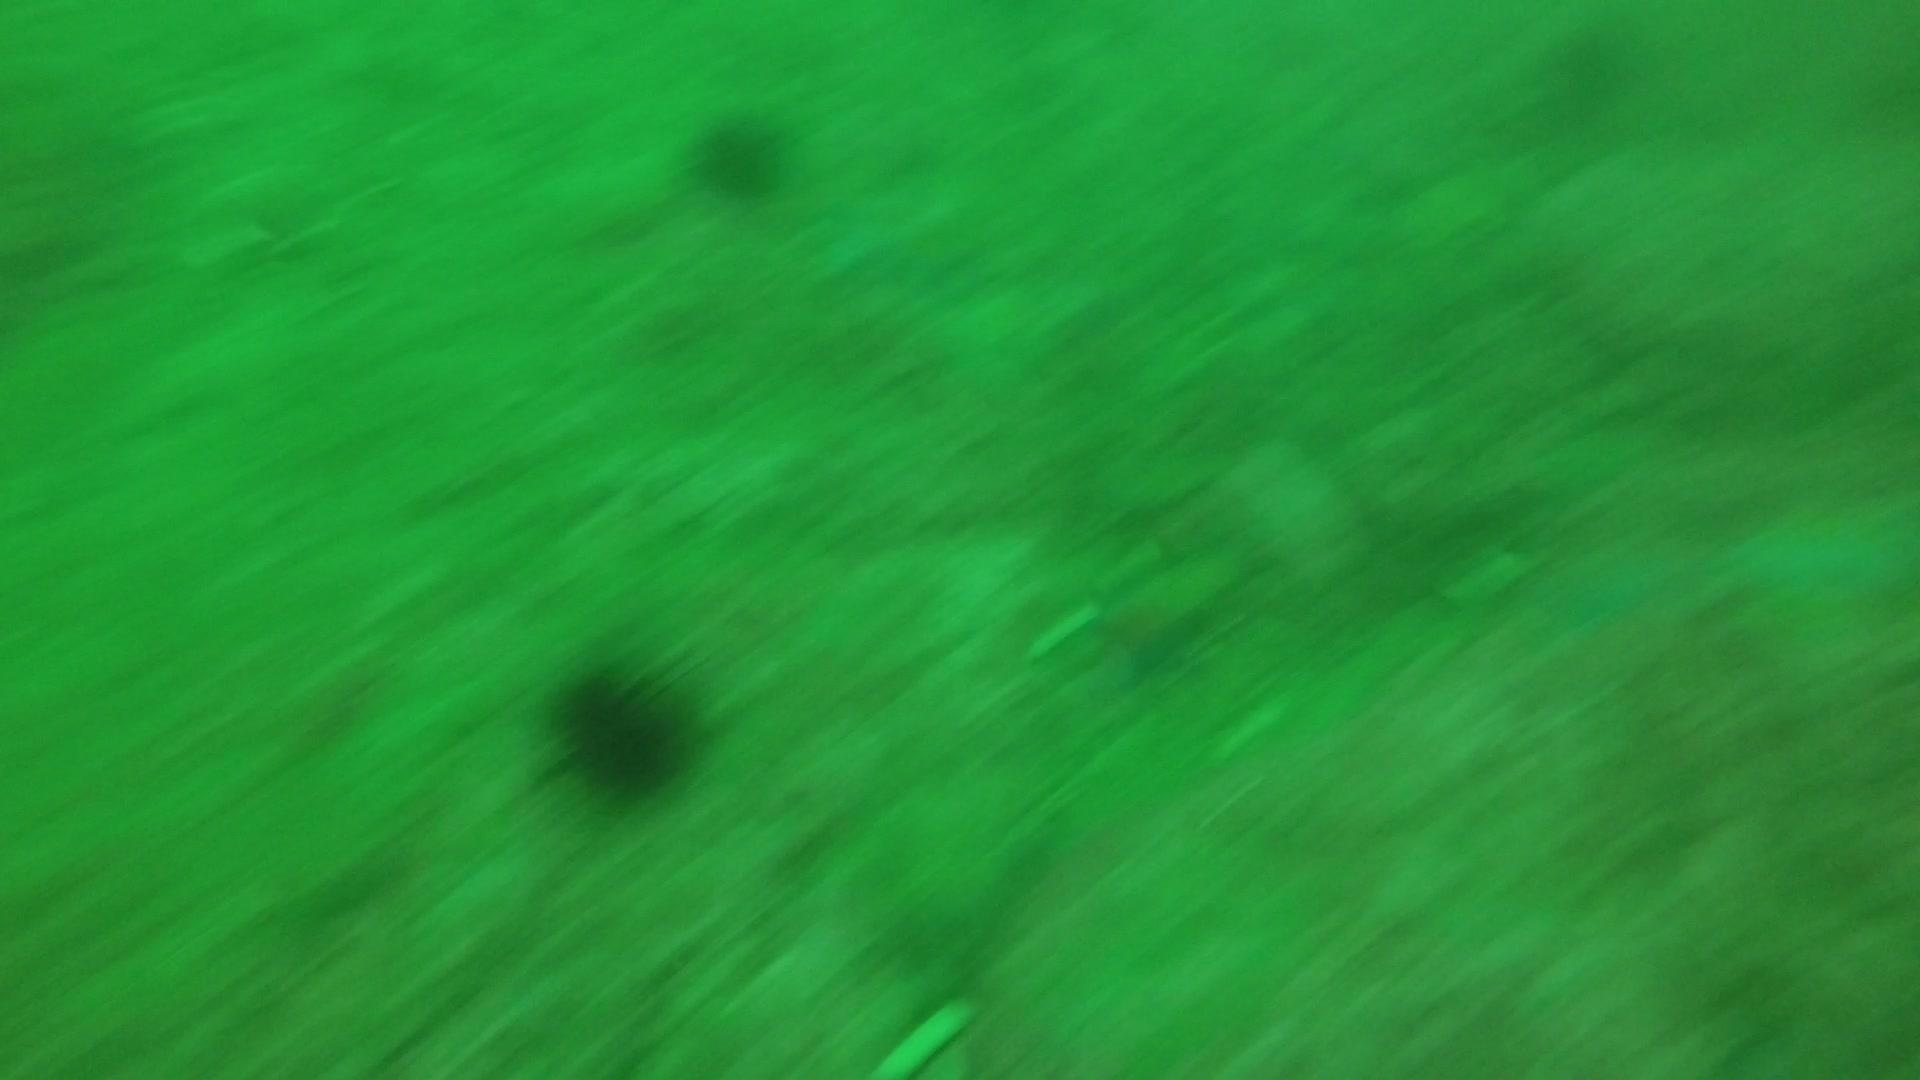echinus: (542, 651, 705, 806), (686, 105, 795, 204)
starfish: (814, 187, 984, 295)
